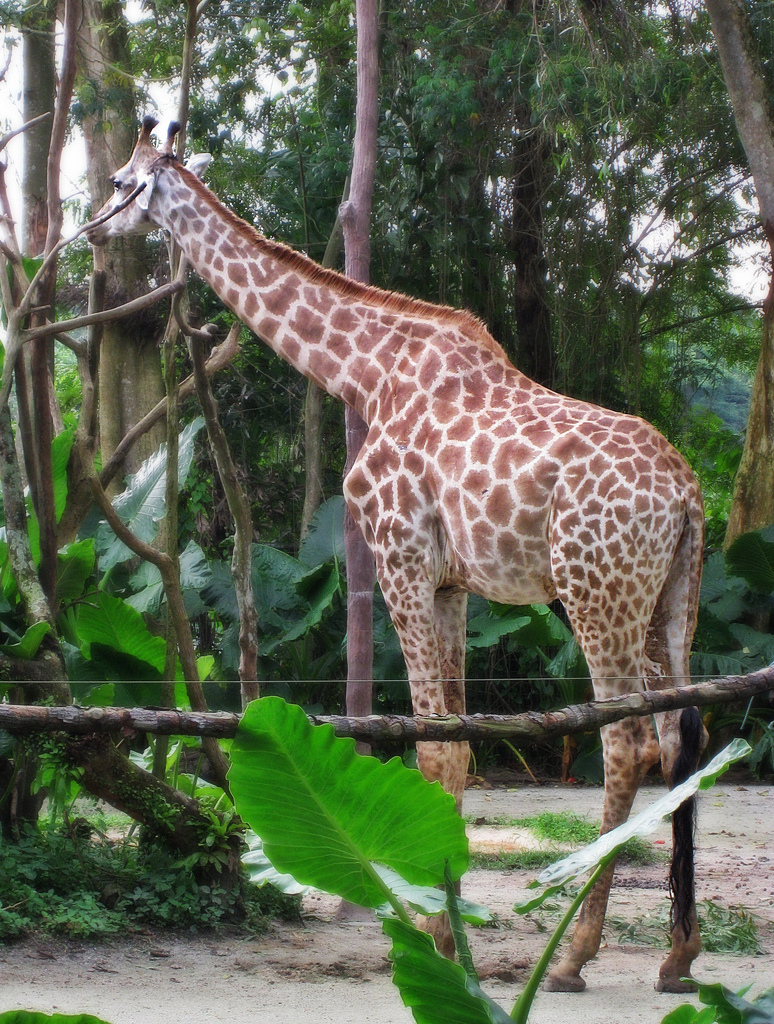giraffe: (82, 124, 737, 991)
